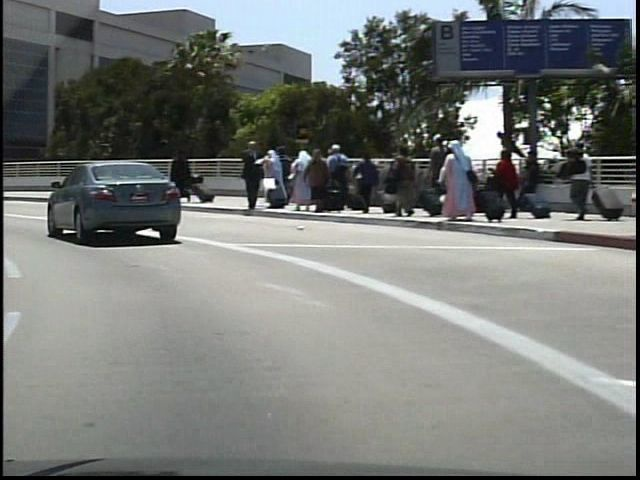person: (556, 138, 591, 224), (234, 137, 261, 212), (166, 146, 194, 212), (236, 145, 260, 210), (175, 153, 195, 197)
